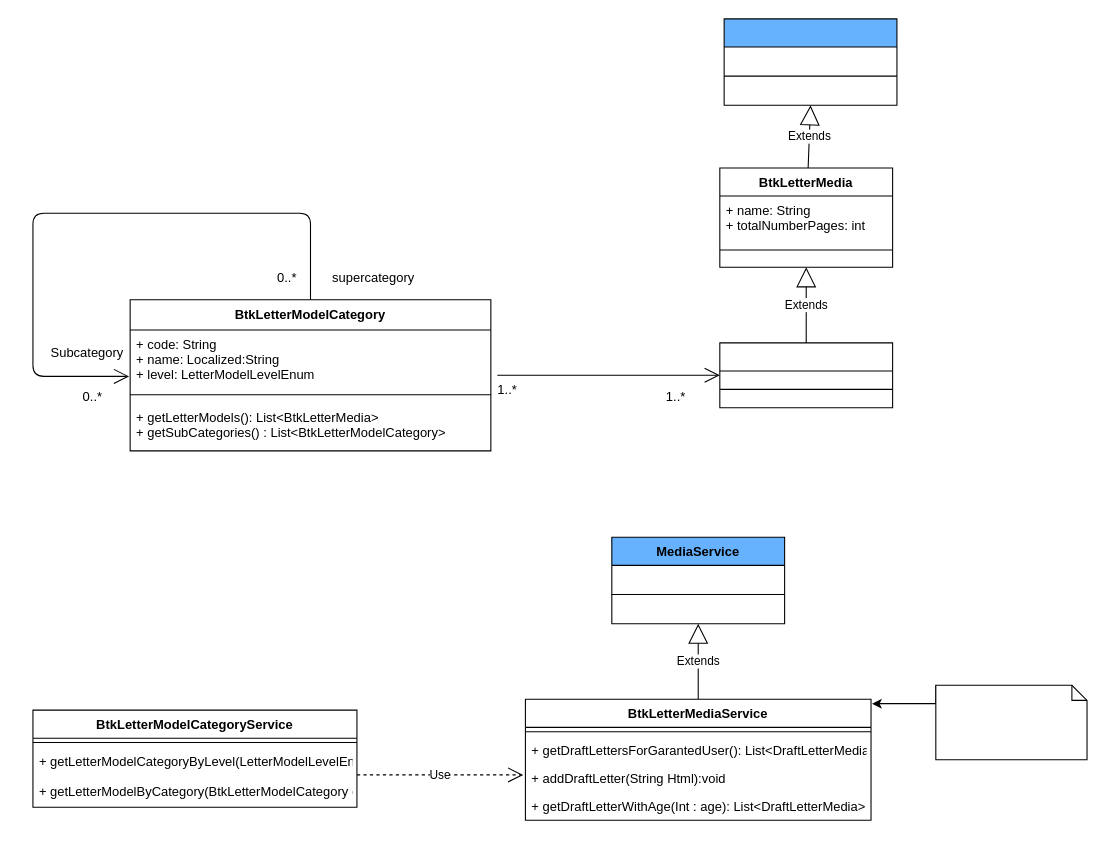
Some shapes in this 1106 by 842 pixel diagram are drawn without their labels. Here are the shapes that lost their labels. From the top down, the centre of each, then its label:
At (x=810, y=61): "Media".
At (x=806, y=375): "BtkLetterModelMedia".
At (x=1011, y=722): "utilise permissionService pour créer et récupérer les letters".
